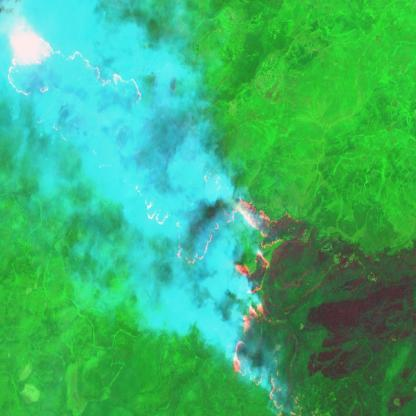fire: (4, 15, 312, 416)
